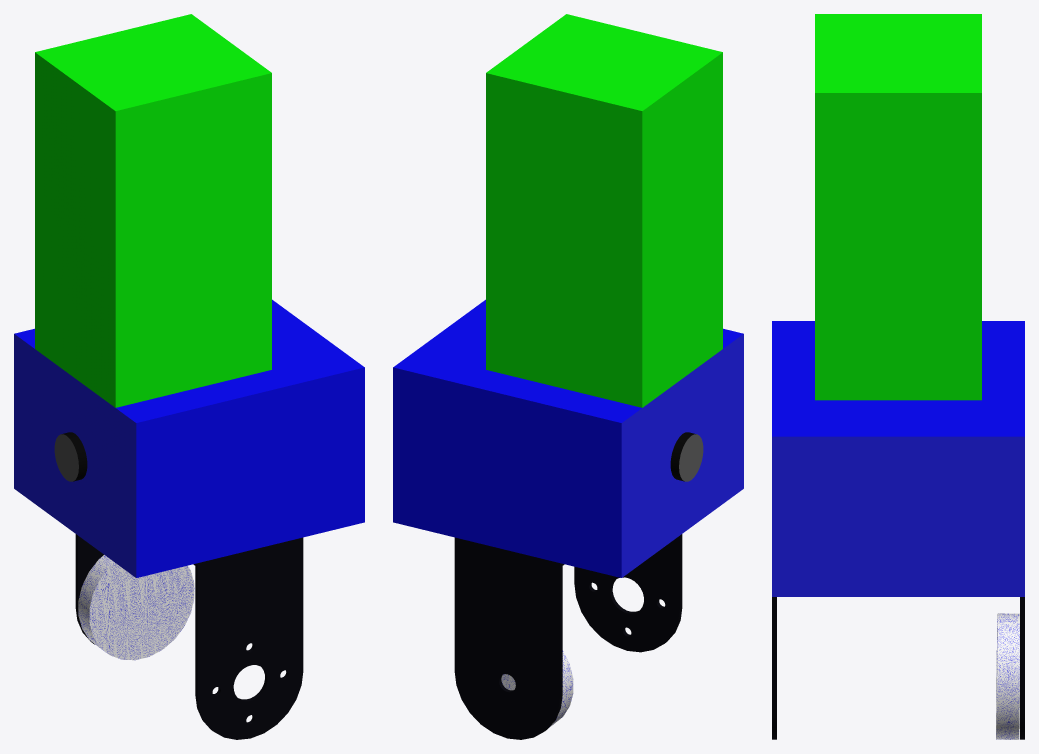
The model's file is camera_mount.dae.
3 views of the same model, side by side, from view 1: azimuth 30°, elevation 25°; view 2: azimuth 150°, elevation 25°; view 3: azimuth 270°, elevation 25° (orthographic). The views are drawn at different scales.
Parts seen in each view (by area): view 1: group_4, group_3 (×3), group_2, group_1; view 2: group_4, group_3 (×3), group_2, group_1; view 3: group_4, group_3 (×2), group_1, group_2.
Boxes of the visible parts, left/top/right/bottom form: group_4: left=35, top=14, right=271, bottom=407; group_3 (×3): left=14, top=299, right=364, bottom=577; group_2: left=75, top=534, right=303, bottom=739; group_1: left=78, top=555, right=194, bottom=660; group_4: left=486, top=14, right=722, bottom=407; group_3 (×3): left=393, top=299, right=743, bottom=577; group_2: left=454, top=534, right=682, bottom=739; group_1: left=501, top=650, right=573, bottom=727; group_4: left=815, top=14, right=981, bottom=400; group_3 (×2): left=772, top=321, right=1024, bottom=596; group_1: left=996, top=613, right=1019, bottom=739; group_2: left=772, top=597, right=1024, bottom=739.
Size of the model in its own units: 22.05 by 19.69 by 56.89.
